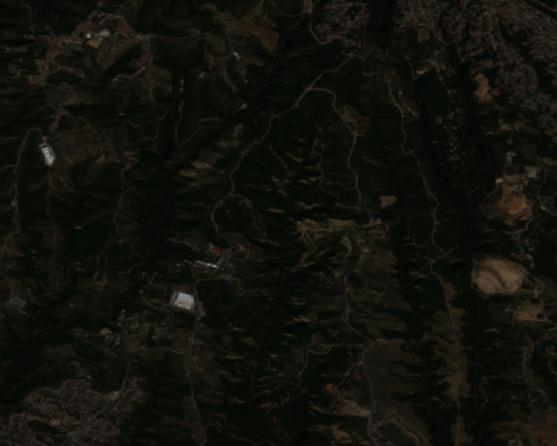Industria: (56, 17, 153, 75), (13, 127, 81, 175)
Poblacion: (394, 1, 557, 100), (16, 364, 147, 445), (136, 237, 247, 325)
